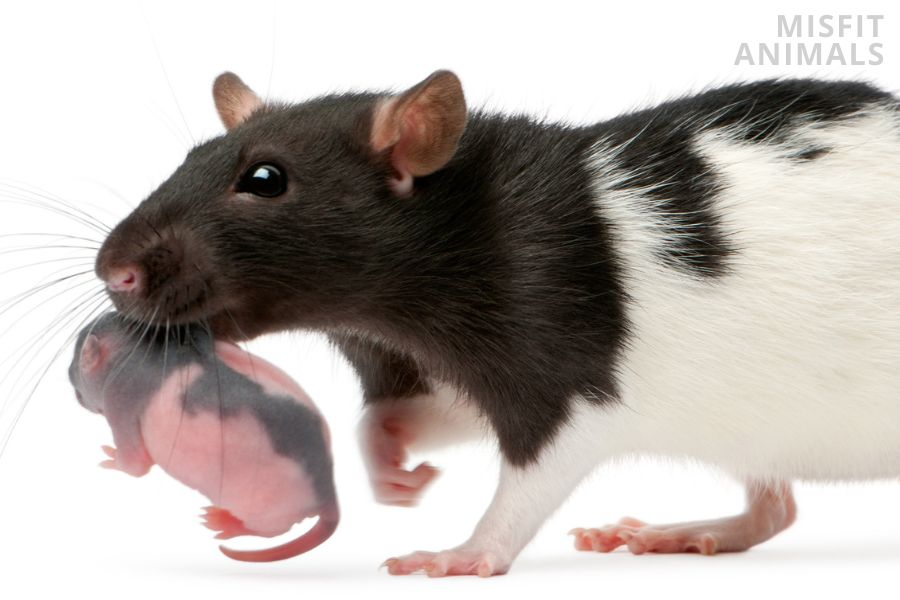Rat: (54, 23, 900, 409)
